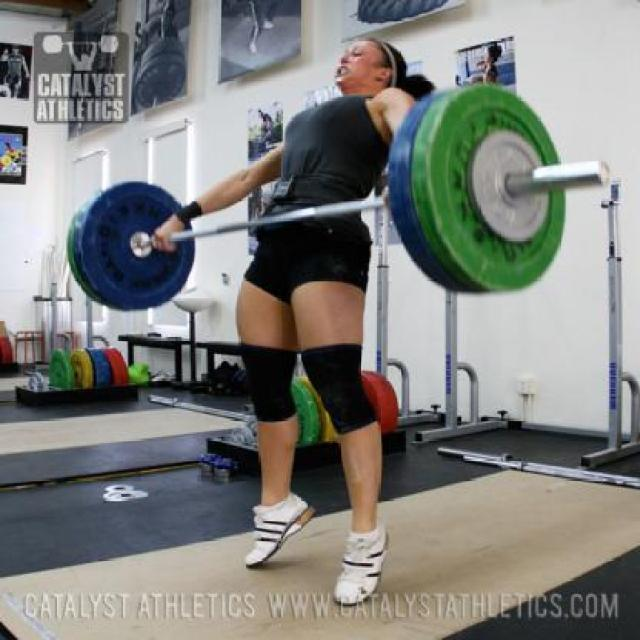barbell: (378, 75, 619, 304)
